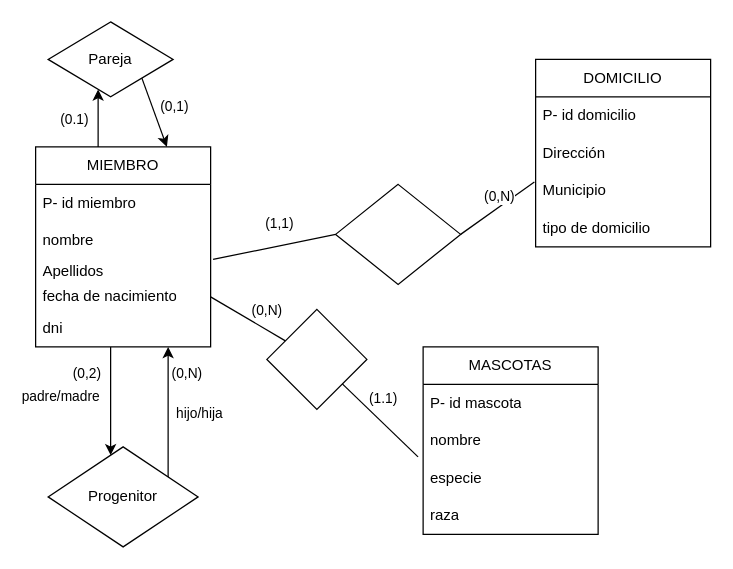
Image size: 733x569. Some labels were removed from this diagram. The shapes that lost their labels are listed below. From the top down, each one's centre as x and y in pixels, then its label:
At (397,233): "Vive".
At (316,358): "tiene".
